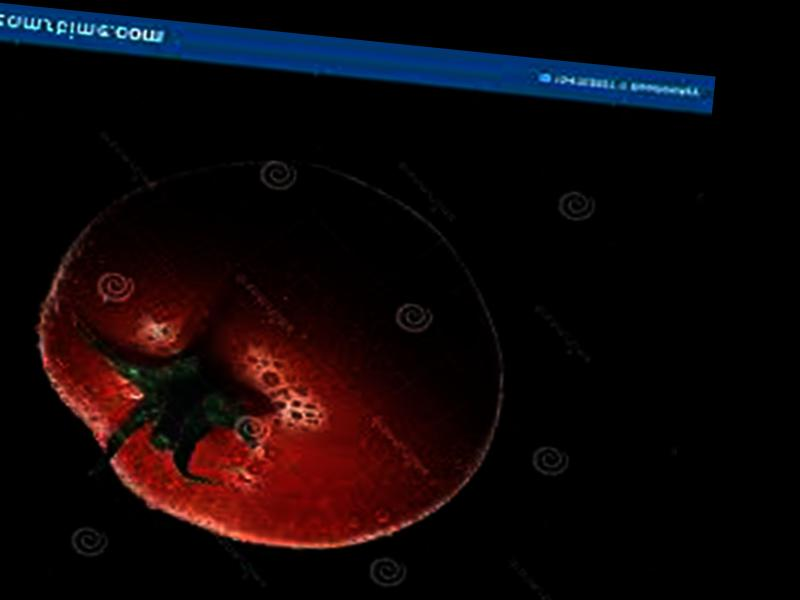Tomato: (16, 140, 526, 569)
